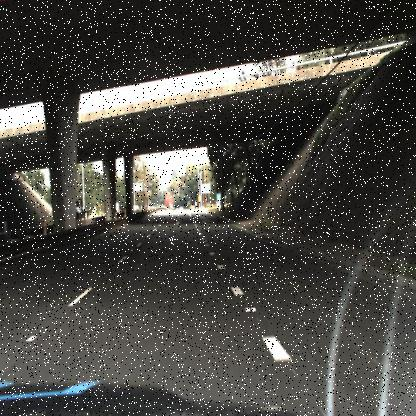car: (71, 194, 95, 223)
